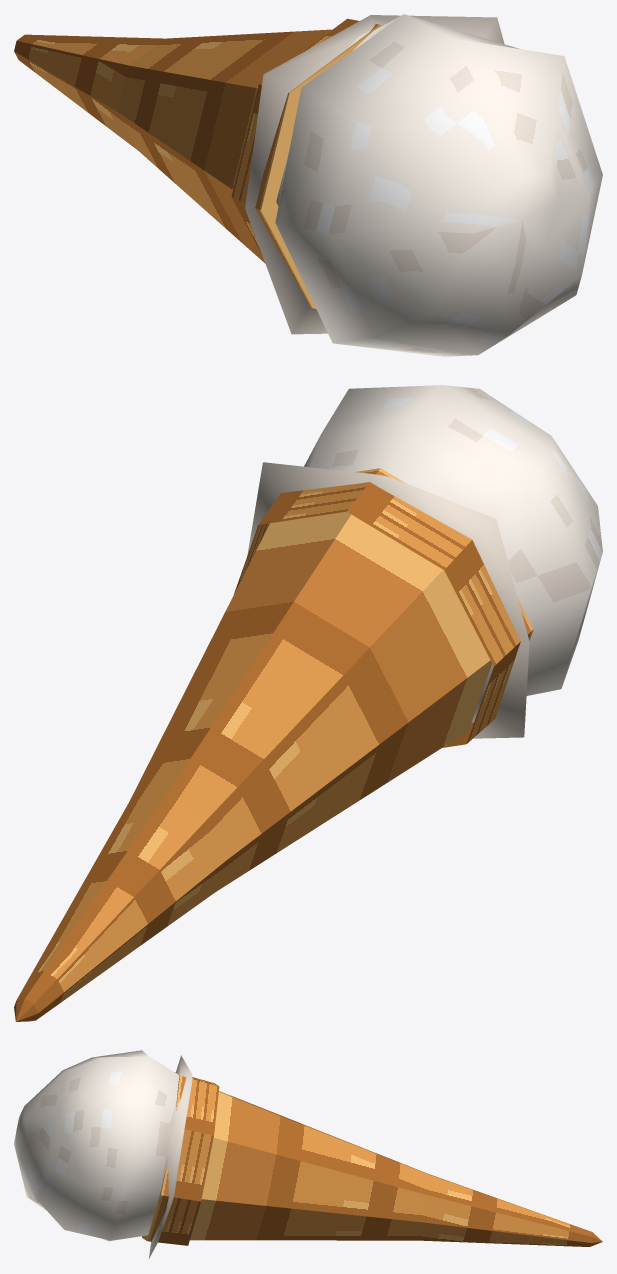
File: Plain Cone.fbx
3 views of the same model, one above another, from view 1: azimuth 30°, elevation 25°; view 2: azimuth 150°, elevation 25°; view 3: azimuth 270°, elevation 25° (orthographic). The views are drawn at different scales.
Visible parts, largest first — view 1: Plain Cone scoop, Plain Cone cone.001, Plain Cone cone lip; view 2: Plain Cone cone.001, Plain Cone scoop, Plain Cone cone lip; view 3: Plain Cone cone.001, Plain Cone scoop, Plain Cone cone lip.
Part boxes in pixels (box(x1,y1,x2,y2)): Plain Cone scoop: box(245, 14, 602, 356); Plain Cone cone.001: box(14, 29, 331, 263); Plain Cone cone lip: box(231, 18, 382, 308); Plain Cone cone.001: box(14, 511, 491, 1021); Plain Cone scoop: box(247, 385, 602, 738); Plain Cone cone lip: box(234, 468, 533, 747); Plain Cone cone.001: box(190, 1091, 602, 1246); Plain Cone scoop: box(14, 1050, 192, 1259); Plain Cone cone lip: box(142, 1072, 219, 1245).
Bounding box in the file's own units: 0.1007 × 0.1025 × 0.2867.
Materials: 2 (2 with a texture image).
